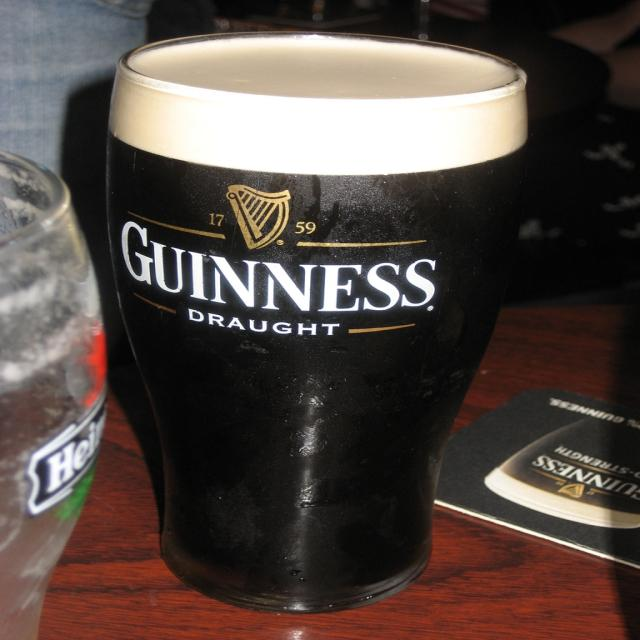guiness: (118, 183, 442, 315)
